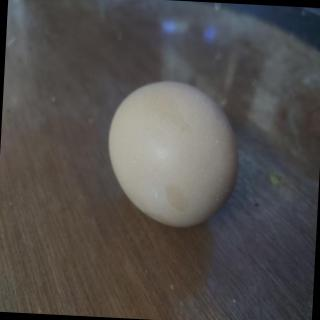Telur: (104, 75, 248, 236)
